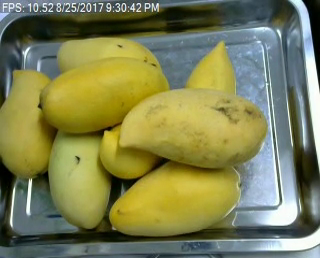Mango: (119, 87, 266, 168), (109, 155, 239, 237), (39, 57, 170, 132), (0, 68, 63, 177), (48, 126, 110, 228), (57, 37, 162, 76), (100, 131, 169, 177), (185, 40, 236, 98)
